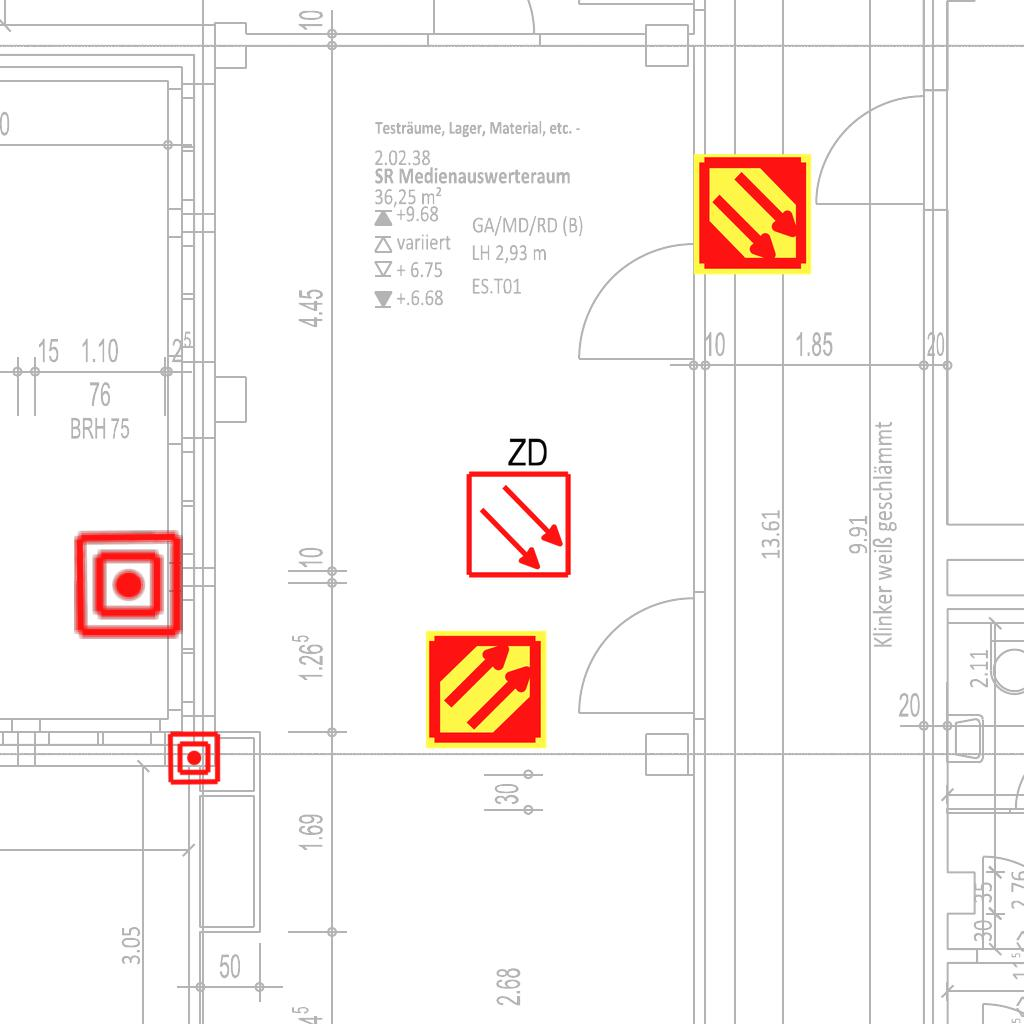ASR_Ansaugrauchmelder: (424, 627, 549, 752), (690, 152, 815, 277)
NAM-Nichtautomatischer_Melder: (72, 528, 185, 641), (166, 730, 222, 786)
ZD_Melder_in_Zwischendecke_mit_Revisionsoeffnung_mind_40_x_40_cm: (460, 431, 574, 580)
